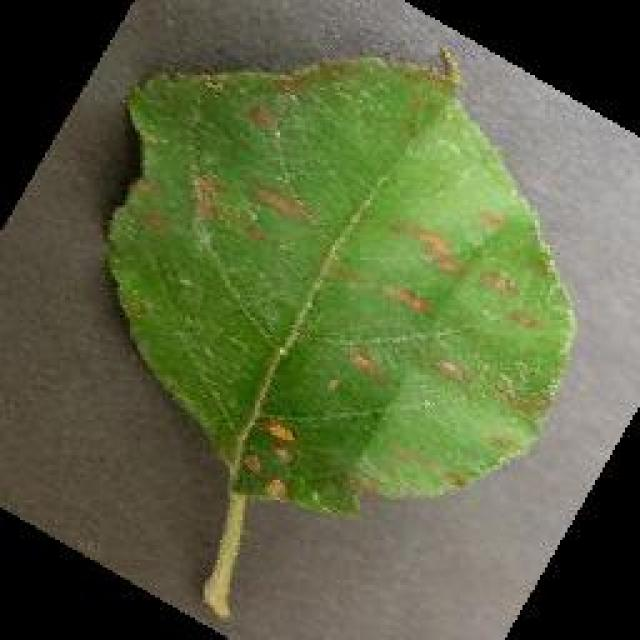apple cedar apple rust: (100, 42, 578, 620)
